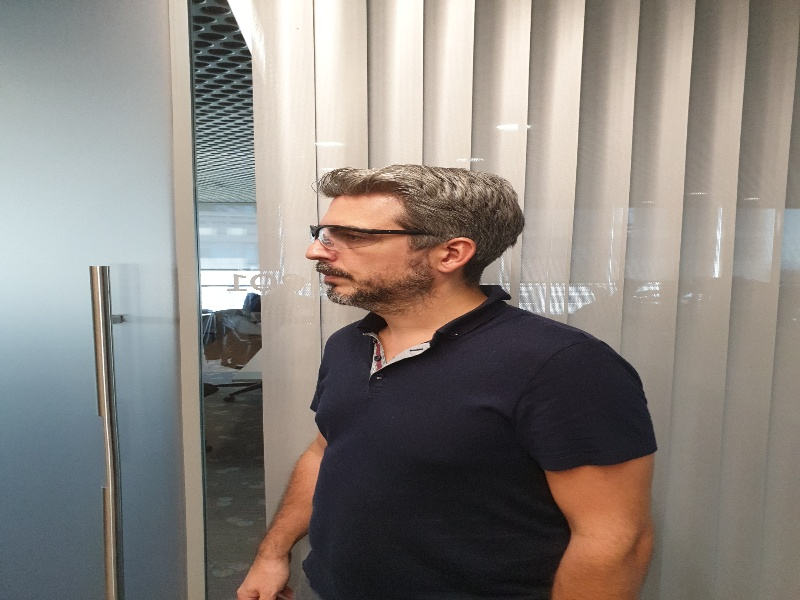Gozluk: (306, 224, 426, 251)
